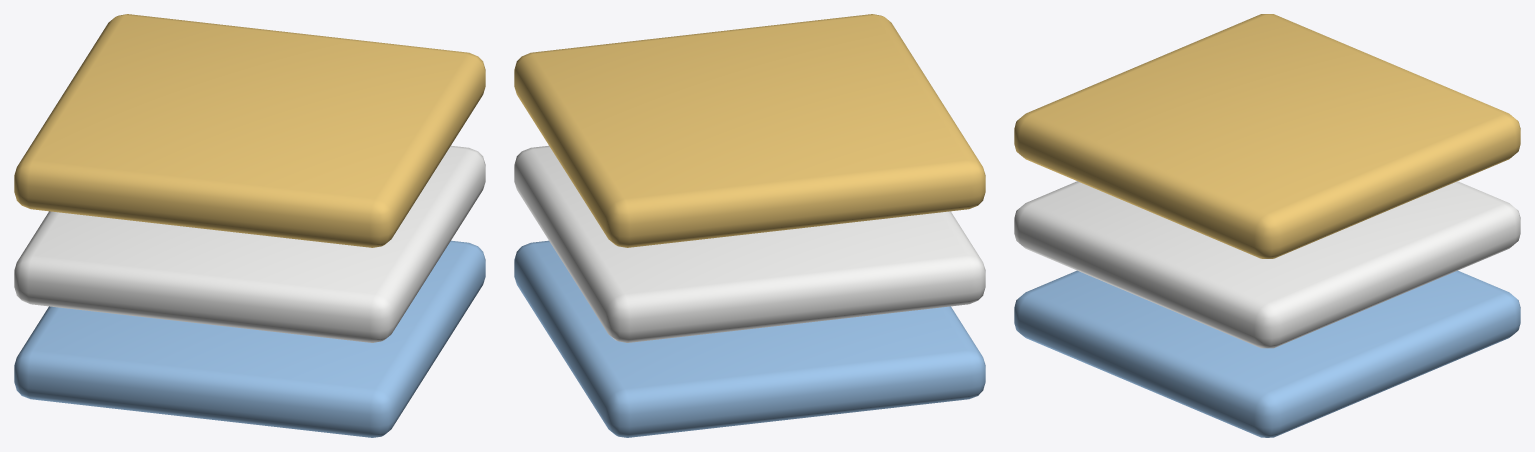
The model's file is products--hypersig.glb.
3 renders of one model, left to right at view 1: azimuth 30°, elevation 25°; view 2: azimuth 150°, elevation 25°; view 3: azimuth 270°, elevation 25°, orthographic. The views are drawn at different scales.
Parts seen in each view (by area): view 1: products--hypersig; view 2: products--hypersig; view 3: products--hypersig.
Boxes of the visible parts, <box> form: products--hypersig: <box>14,14,485,437</box>; products--hypersig: <box>514,14,985,437</box>; products--hypersig: <box>1014,14,1520,437</box>.
Size of the model in its own units: 0.6777 by 0.3301 by 0.6777.
